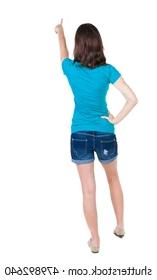Shorts: (70, 131, 119, 166)
short sleeve shirt: (61, 57, 123, 135)
